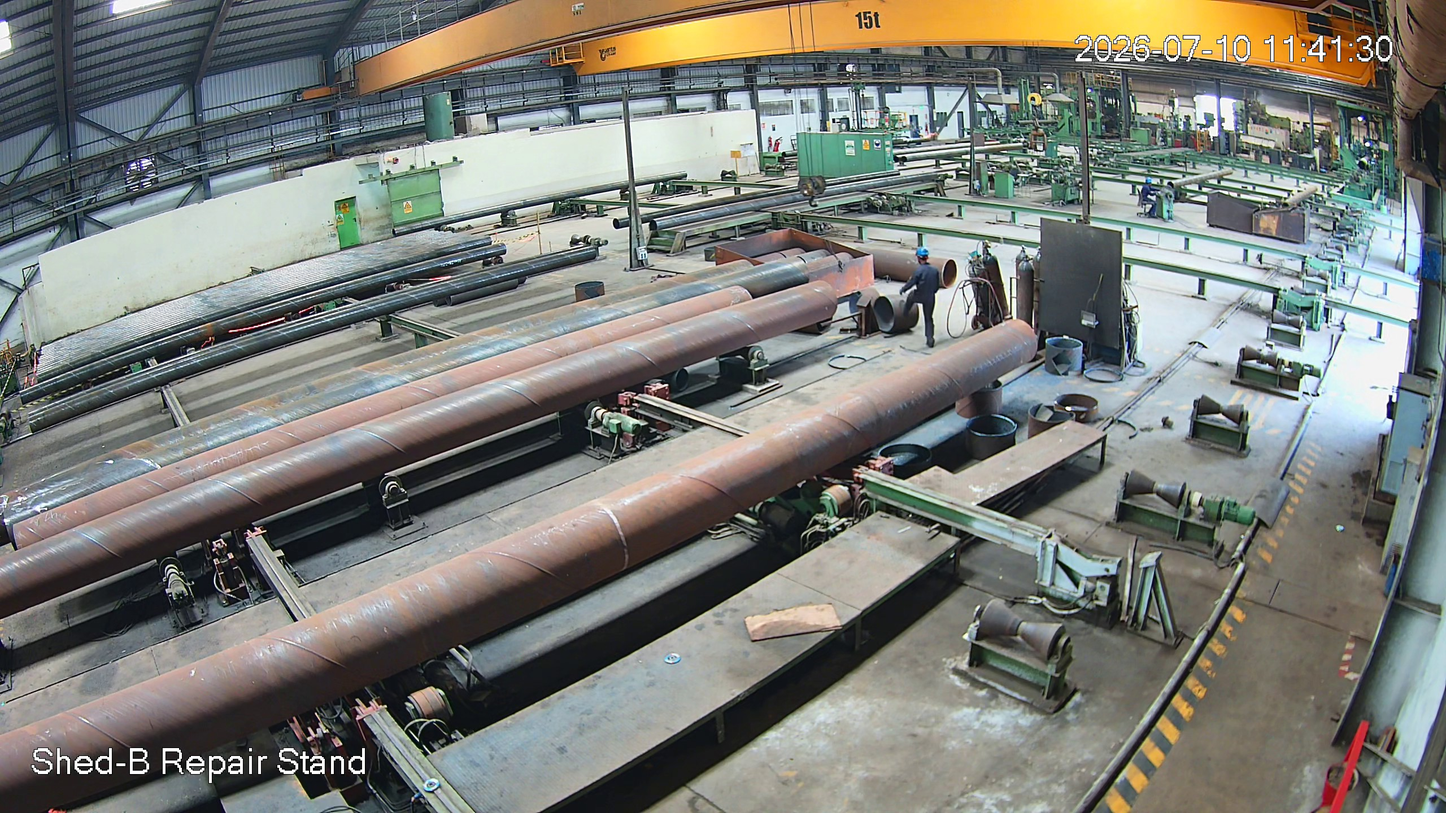Helmet: (910, 242, 934, 276), (1141, 171, 1155, 194)
Person: (902, 247, 943, 349), (1135, 172, 1160, 220)
